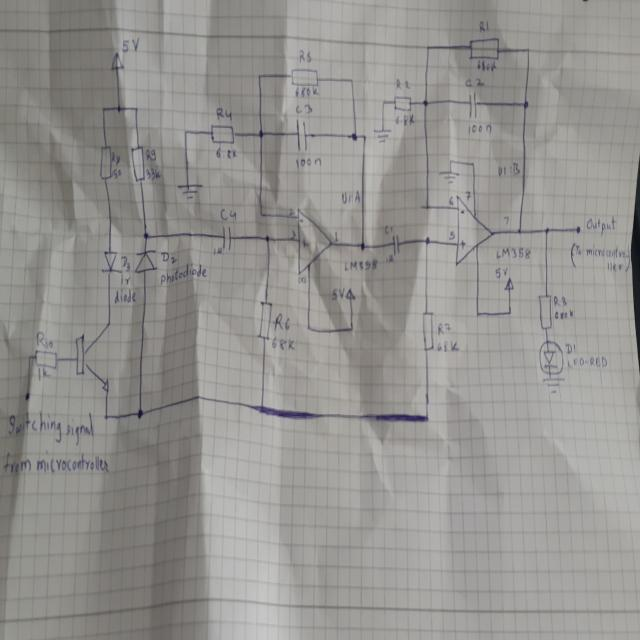capacitor: (295, 119, 308, 152), (468, 90, 478, 119), (222, 224, 232, 252), (391, 233, 400, 258)
diode: (538, 340, 562, 376), (134, 247, 158, 276), (100, 249, 120, 275)
ground: (176, 181, 204, 201), (542, 376, 565, 395), (438, 170, 460, 184), (374, 128, 392, 144)
junction: (136, 408, 144, 420), (351, 131, 358, 142), (359, 241, 366, 251), (424, 235, 430, 246), (423, 98, 429, 108), (258, 129, 264, 139), (143, 231, 149, 241), (544, 225, 550, 235), (522, 100, 528, 110), (116, 104, 122, 114), (424, 202, 430, 212), (361, 132, 367, 142), (516, 226, 522, 235), (264, 234, 270, 242), (26, 353, 32, 361), (306, 323, 311, 332), (348, 77, 354, 84), (183, 128, 188, 136), (257, 72, 262, 80), (381, 98, 386, 106), (424, 412, 428, 422), (470, 160, 475, 168), (259, 210, 264, 218), (507, 309, 512, 316), (425, 44, 430, 51), (526, 46, 530, 54), (104, 412, 108, 420), (476, 310, 480, 318), (101, 105, 105, 113), (260, 404, 264, 412), (134, 105, 138, 112), (349, 325, 353, 332), (449, 158, 453, 165)
resistor: (468, 36, 502, 62), (257, 300, 273, 340), (290, 66, 319, 88), (130, 144, 146, 183), (421, 311, 435, 351), (210, 124, 235, 146), (99, 144, 113, 182), (539, 293, 553, 331), (34, 349, 57, 371), (393, 94, 412, 112)
source: (109, 52, 124, 74), (345, 287, 356, 301), (503, 278, 513, 292)
terminal: (24, 391, 31, 402), (575, 225, 582, 235)
text: (8, 410, 96, 447), (2, 452, 109, 478), (570, 240, 630, 274), (160, 264, 207, 285), (586, 215, 616, 236), (496, 245, 532, 261), (566, 355, 608, 368), (344, 257, 378, 273), (295, 155, 322, 171), (466, 120, 493, 135), (272, 336, 296, 352), (435, 338, 460, 353), (498, 161, 520, 178), (36, 330, 54, 350), (114, 288, 136, 304), (340, 189, 360, 206), (294, 85, 320, 98), (215, 148, 238, 162), (274, 313, 290, 333), (122, 36, 140, 53), (220, 207, 238, 223), (394, 113, 416, 126), (464, 75, 486, 88), (476, 60, 496, 74), (553, 308, 574, 320), (216, 106, 232, 121), (294, 102, 312, 115), (395, 77, 411, 91), (146, 166, 161, 180), (330, 286, 345, 300), (298, 49, 312, 63), (438, 322, 452, 336), (120, 255, 131, 272), (37, 368, 50, 382), (144, 147, 156, 162), (553, 295, 568, 307), (161, 252, 176, 264), (120, 273, 132, 287), (111, 150, 121, 166), (497, 265, 509, 278), (565, 341, 576, 355), (479, 19, 489, 33), (384, 252, 394, 266), (111, 168, 122, 180), (212, 245, 222, 258), (383, 224, 393, 236), (301, 235, 309, 250), (502, 214, 509, 227), (298, 274, 306, 284), (448, 230, 456, 240), (288, 207, 296, 216), (334, 230, 340, 242), (460, 238, 466, 250), (465, 190, 471, 201), (448, 196, 454, 206), (290, 230, 296, 240), (459, 207, 465, 217), (299, 215, 304, 226)
transistor: (74, 319, 112, 393)
